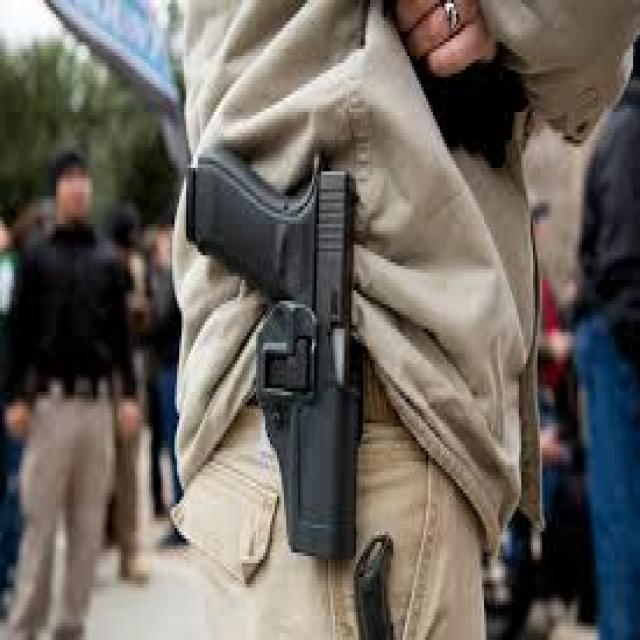gun: (164, 107, 418, 584)
